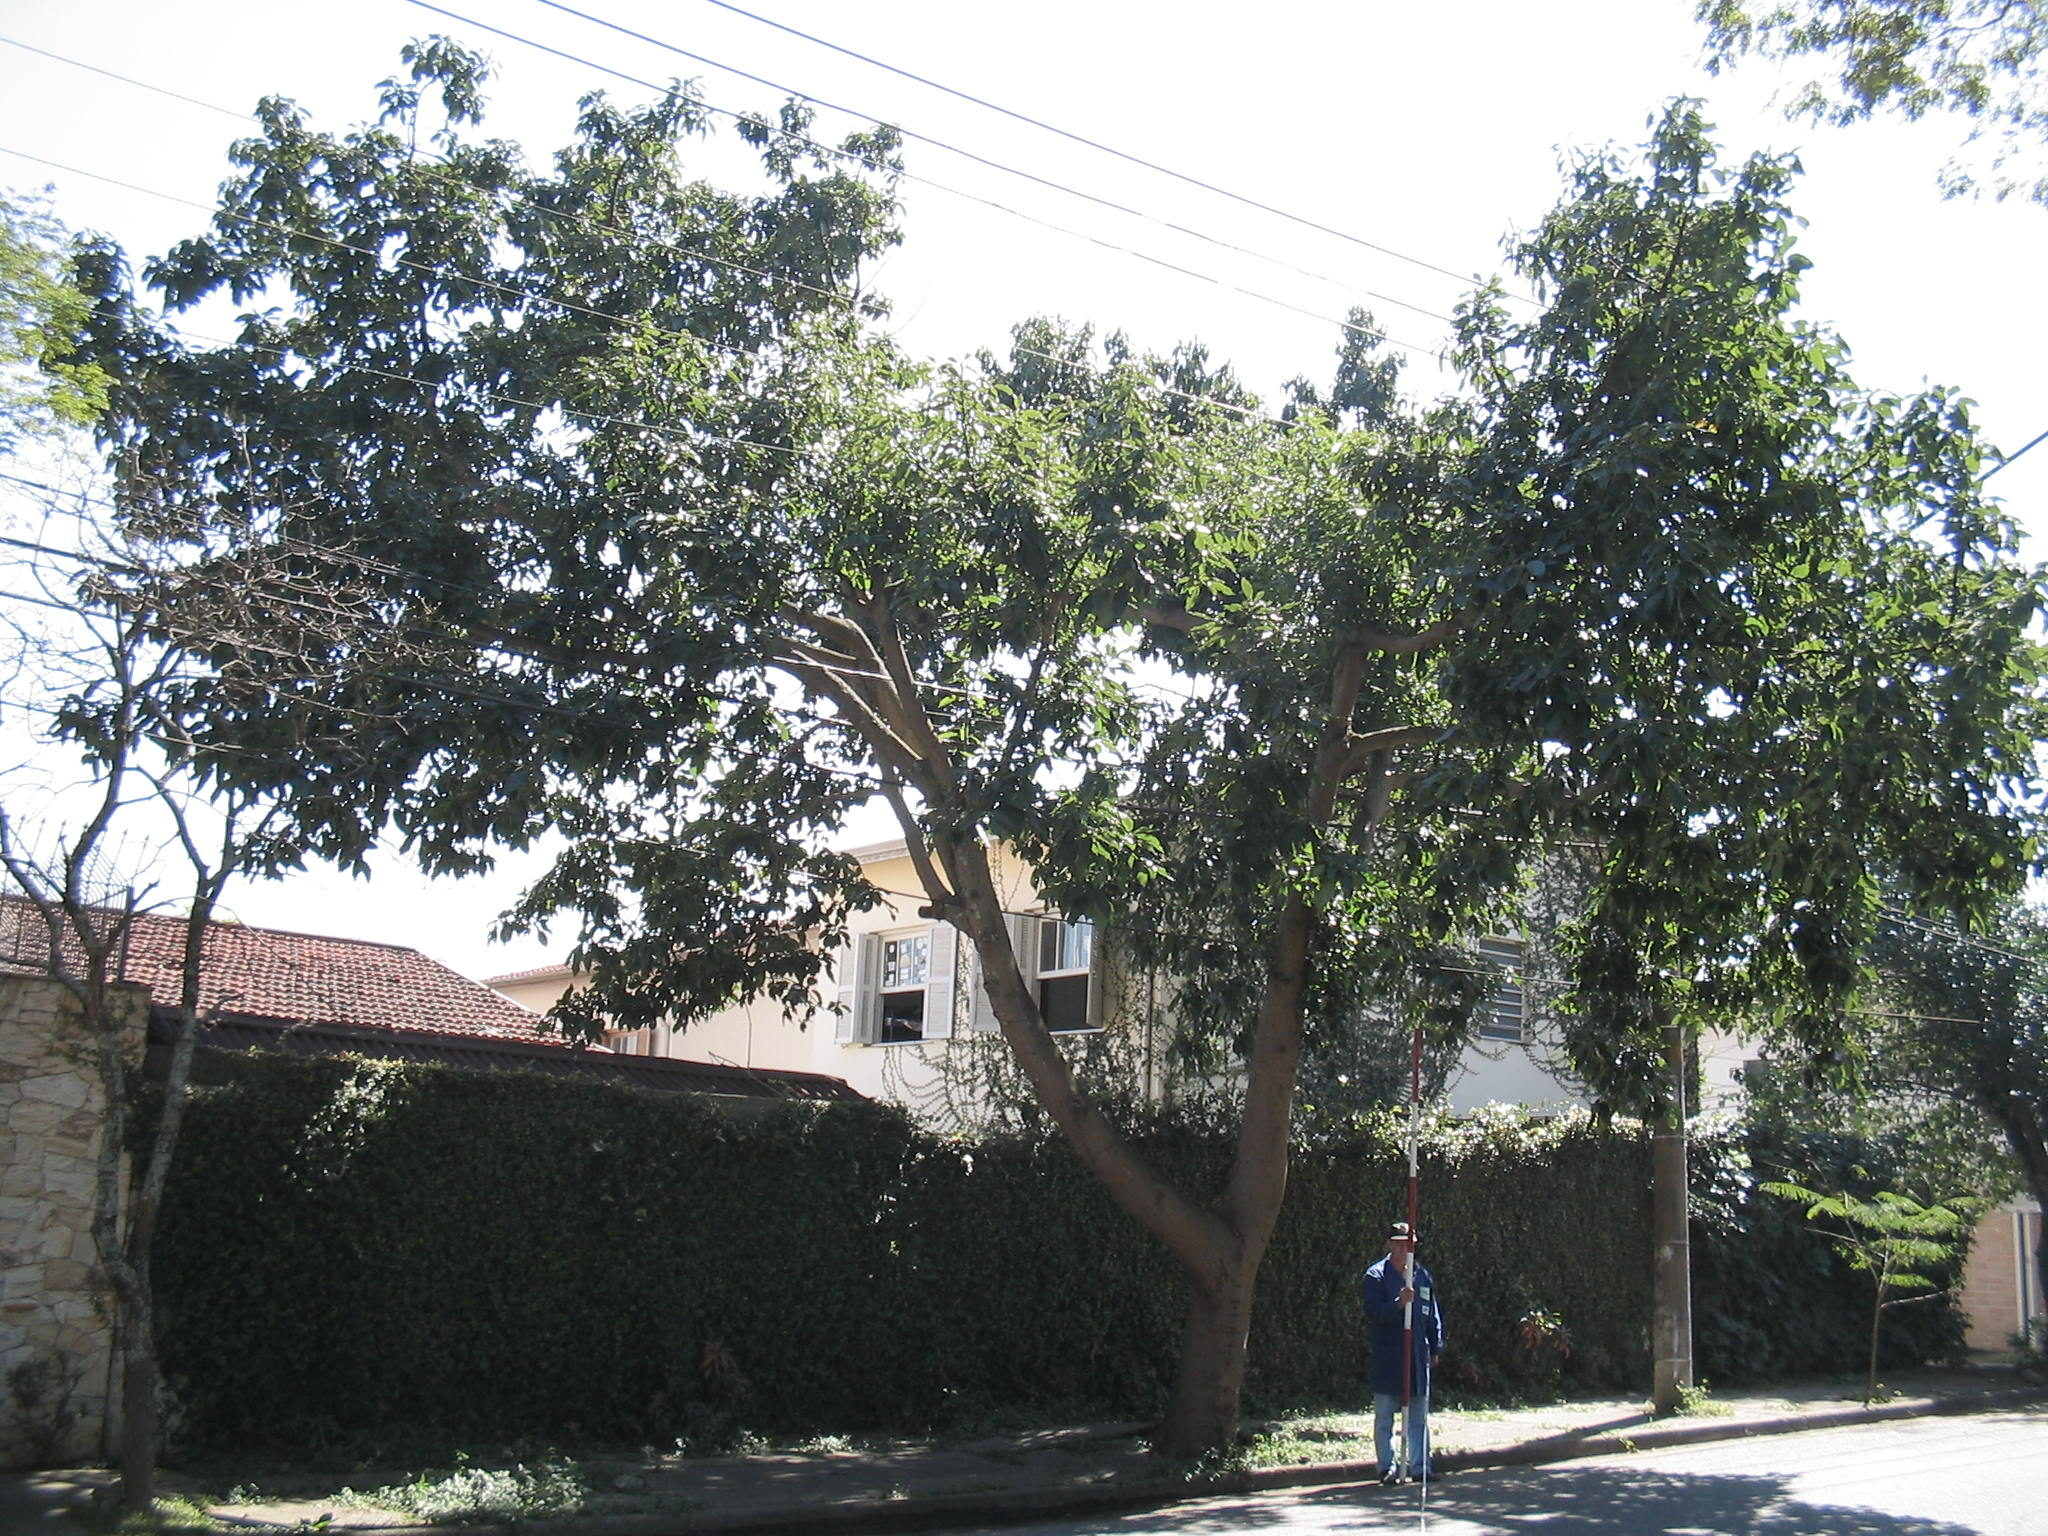crown: (65, 39, 2030, 1137)
stem: (1126, 1225, 1300, 1452)
stick: (1377, 1026, 1437, 1483)
tree: (58, 35, 2038, 1459)
